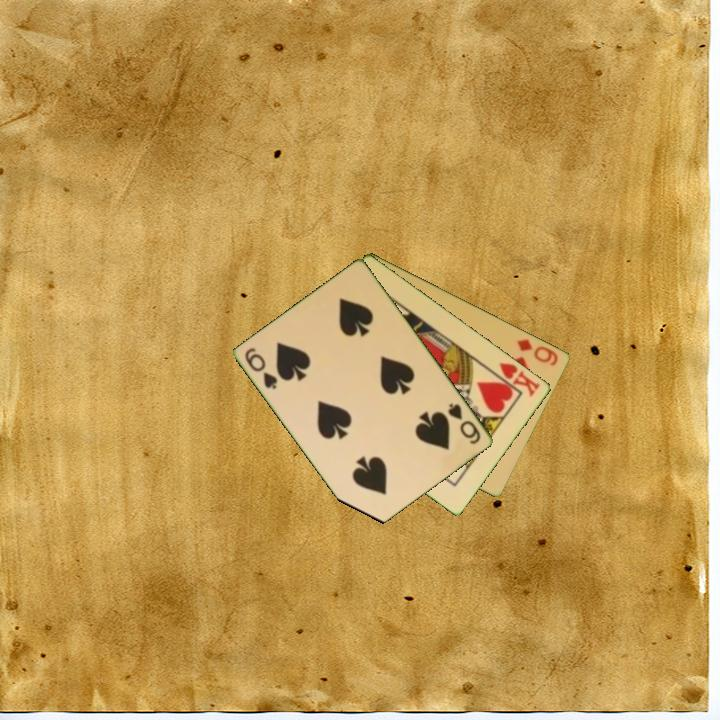6d: (514, 335, 561, 369)
6s: (241, 344, 281, 393), (445, 400, 484, 447)
Kh: (488, 359, 543, 400)
